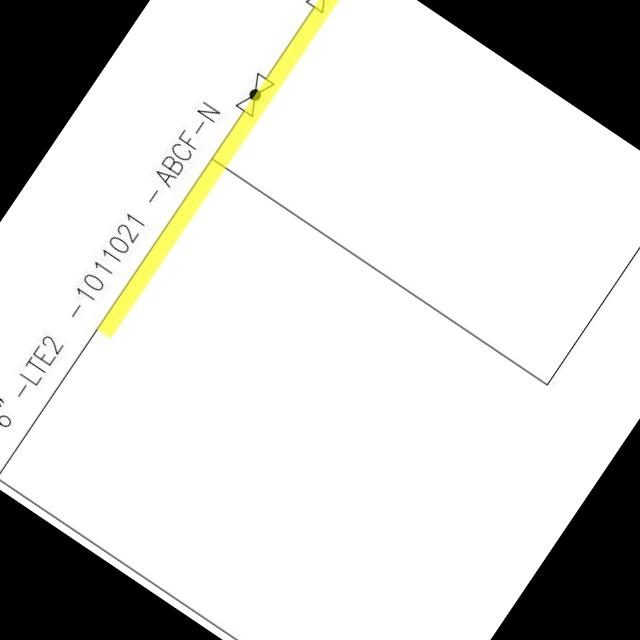BV2: (231, 64, 284, 124), (296, 0, 353, 23)
